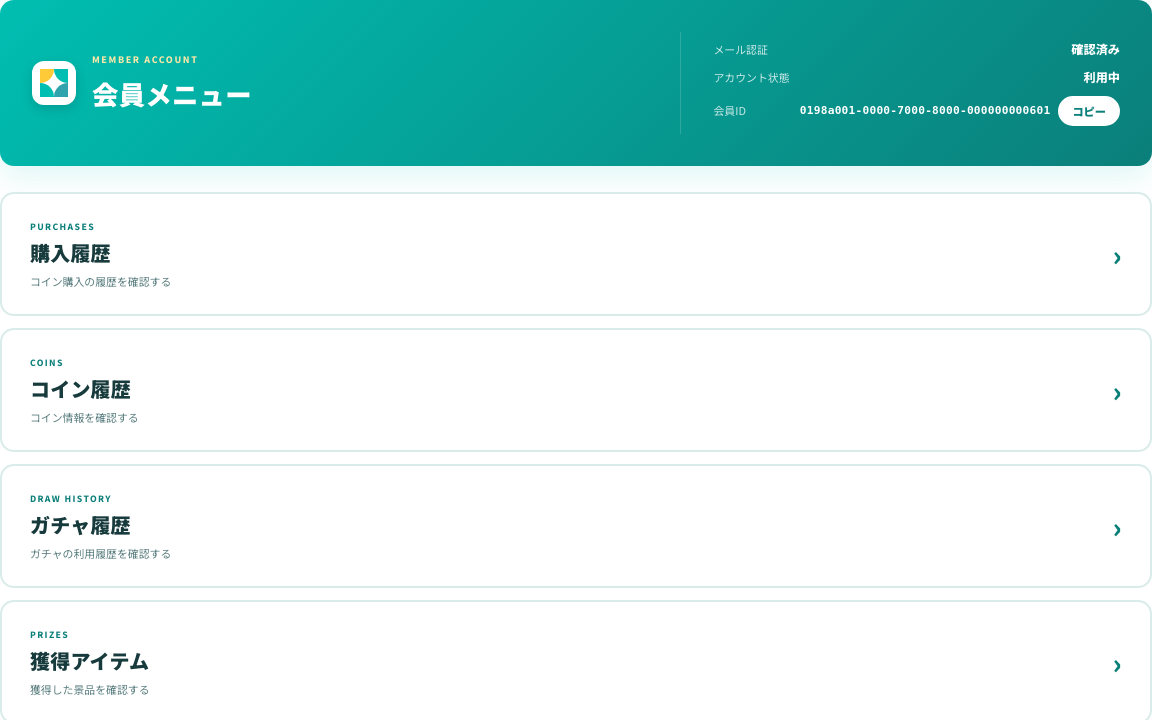
Test: my page top › tells the member how to copy manually when the clipboard is unavailable
Click the button with aria-label "会員IDをコピー" at (1089, 112), box [1058, 96, 1120, 126]
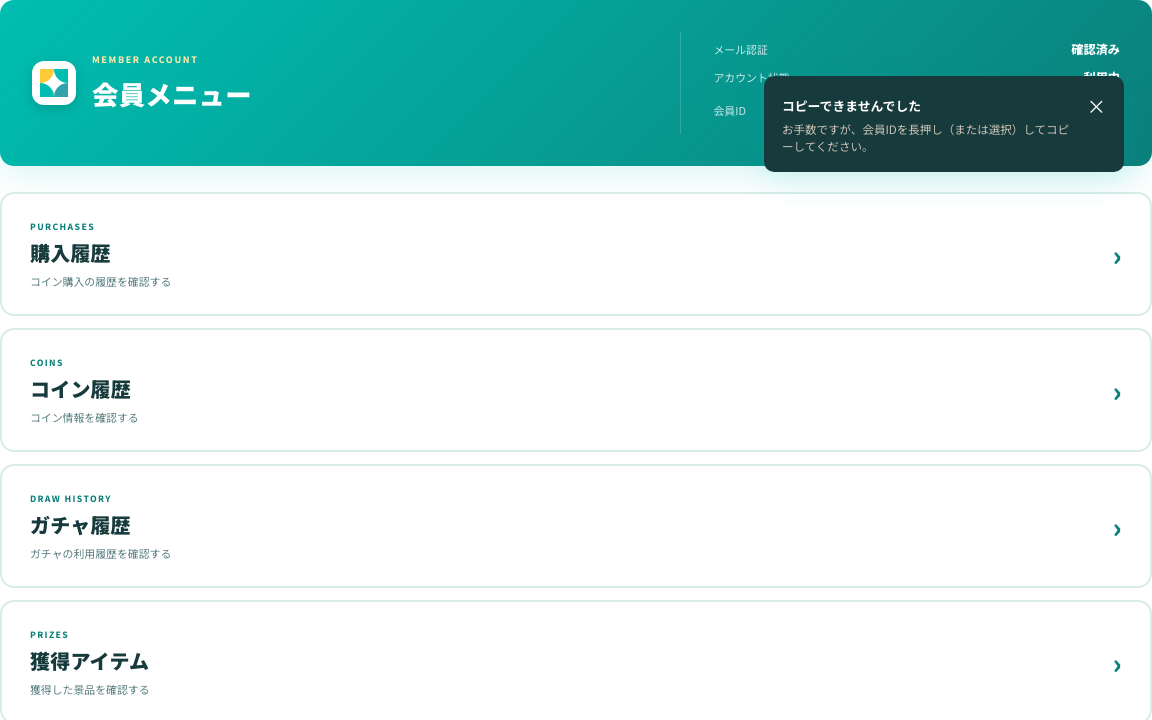
Expected: the text "お手数ですが、会員IDを長押し（または選択）してコピーしてください。" is shown, [782, 121, 1071, 156]
